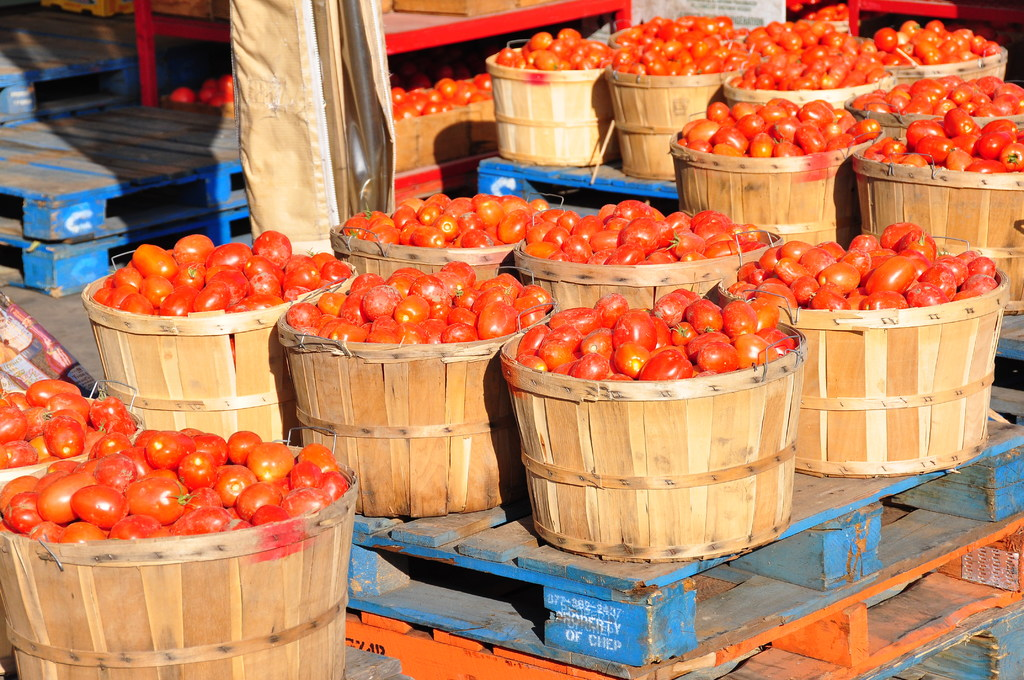Tomato: (0, 26, 1023, 537), (613, 311, 663, 351)
